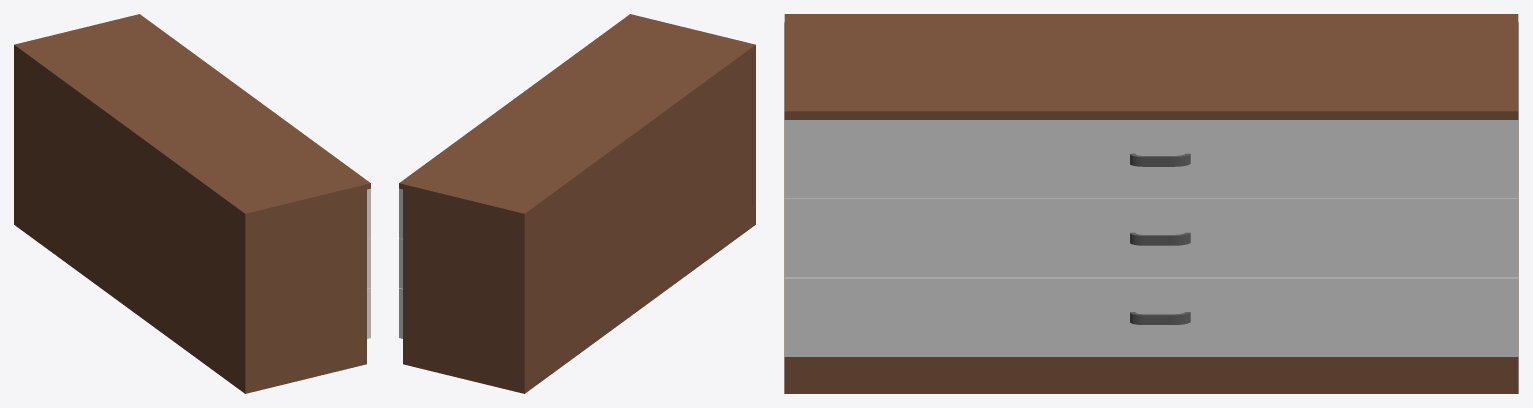
File: Shelf2.fbx
The picture shows the model from 3 angles, left to right: view 1: azimuth 30°, elevation 25°; view 2: azimuth 150°, elevation 25°; view 3: azimuth 270°, elevation 25°; orthographic projection. The views are drawn at different scales.
Parts seen in each view (by area): view 1: Shelf2; view 2: Shelf2; view 3: Shelf2, Shelf2Drawer2, Shelf2Drawer3, Shelf2Drawer1.
Part boxes in pixels (x1=…): Shelf2: x1=14, y1=14, x2=370, y2=393; Shelf2: x1=399, y1=14, x2=755, y2=393; Shelf2: x1=784, y1=14, x2=1518, y2=393; Shelf2Drawer2: x1=784, y1=198, x2=1518, y2=277; Shelf2Drawer3: x1=784, y1=277, x2=1518, y2=356; Shelf2Drawer1: x1=784, y1=120, x2=1518, y2=198.
Bounding box in the file's own units: 0.9634 × 1.27 × 2.96.
